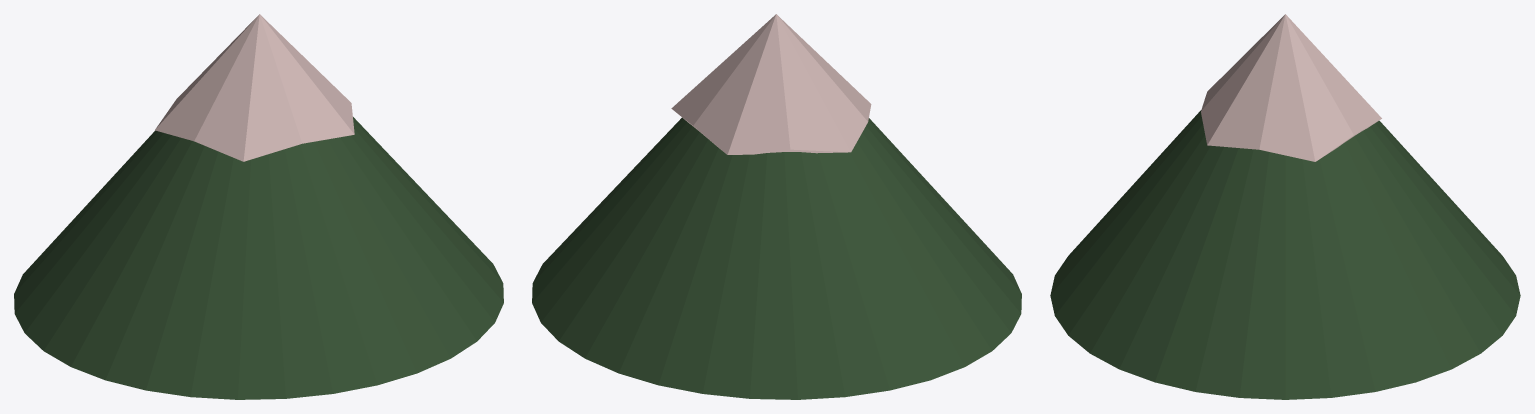
The model's file is mountain2.fbx.
The picture shows the model from 3 angles, left to right: view 1: azimuth 30°, elevation 25°; view 2: azimuth 150°, elevation 25°; view 3: azimuth 270°, elevation 25°; orthographic projection.
Parts seen in each view (by area): view 1: Cone, Cone.001; view 2: Cone, Cone.001; view 3: Cone, Cone.001.
Part boxes in pixels (x1,y1,x2,y2): Cone: (14, 117, 503, 399); Cone.001: (155, 14, 354, 161); Cone: (532, 117, 1021, 399); Cone.001: (671, 14, 871, 154); Cone: (1050, 110, 1520, 399); Cone.001: (1201, 14, 1381, 161).
Size of the model in its own units: 1555 by 981 by 1483.
